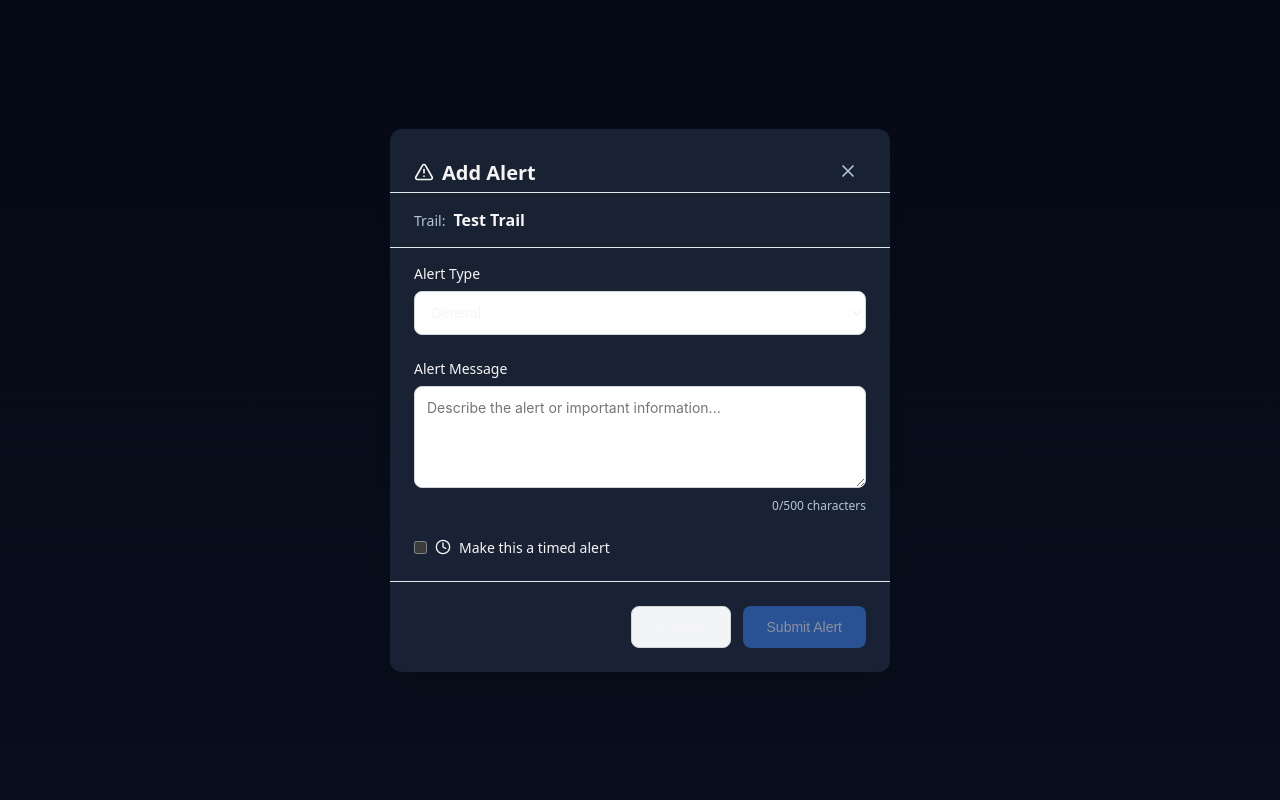
Test: AlertModal › Form Interactions › shows character count for message
Type "Test message" into the text box labelled "Alert Message" at (640, 436), box [414,386,866,488]
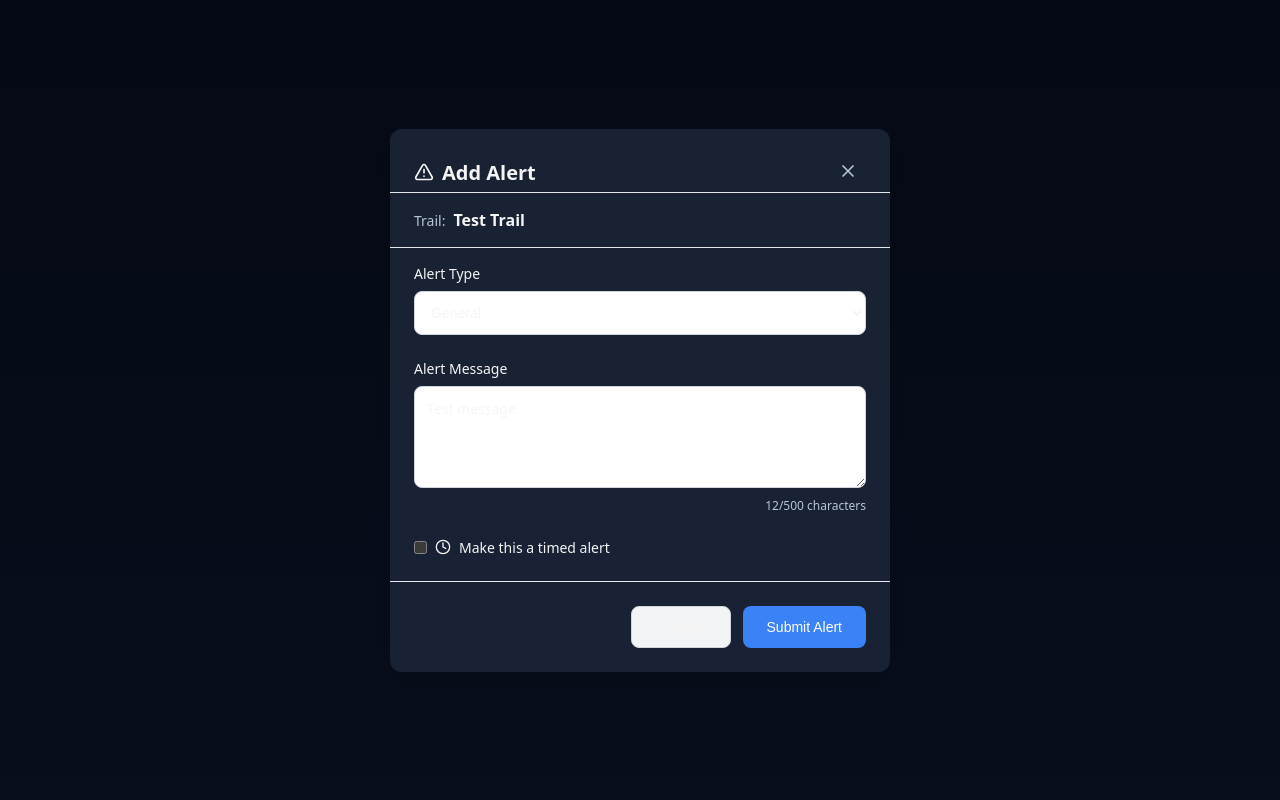
Result: the text "12/500 characters" is shown at [765,496,866,514]
